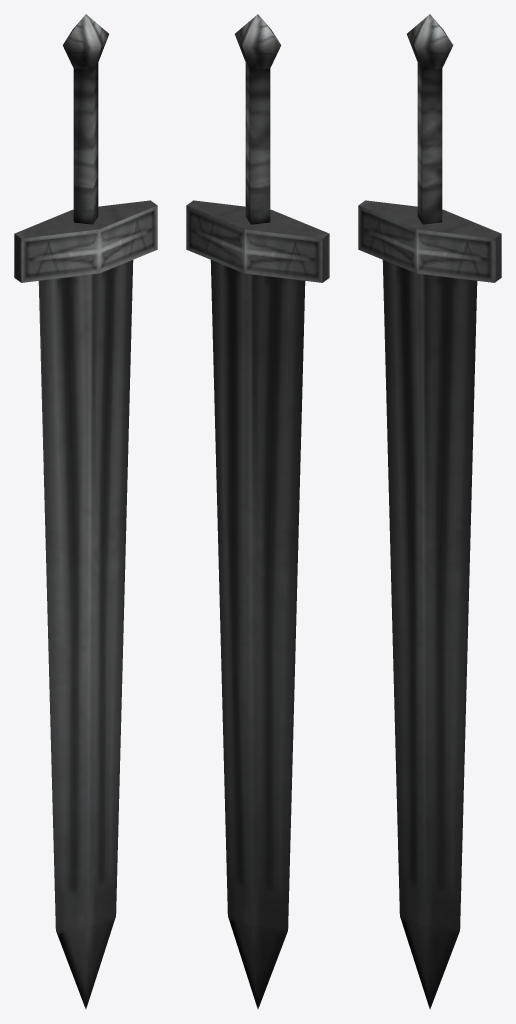
The model's file is GY_diaosu01jian.fbx.
The picture shows the model from 3 angles, left to right: view 1: azimuth 30°, elevation 25°; view 2: azimuth 150°, elevation 25°; view 3: azimuth 330°, elevation 25°; orthographic projection.
Parts seen in each view (by area): view 1: GY_diaosu01jian; view 2: GY_diaosu01jian; view 3: GY_diaosu01jian.
Boxes of the visible parts, <box> form: GY_diaosu01jian: <box>14,14,157,1009</box>; GY_diaosu01jian: <box>186,14,329,1009</box>; GY_diaosu01jian: <box>358,14,501,1009</box>.
Size of the model in its own units: 20.57 by 144 by 7.06.
